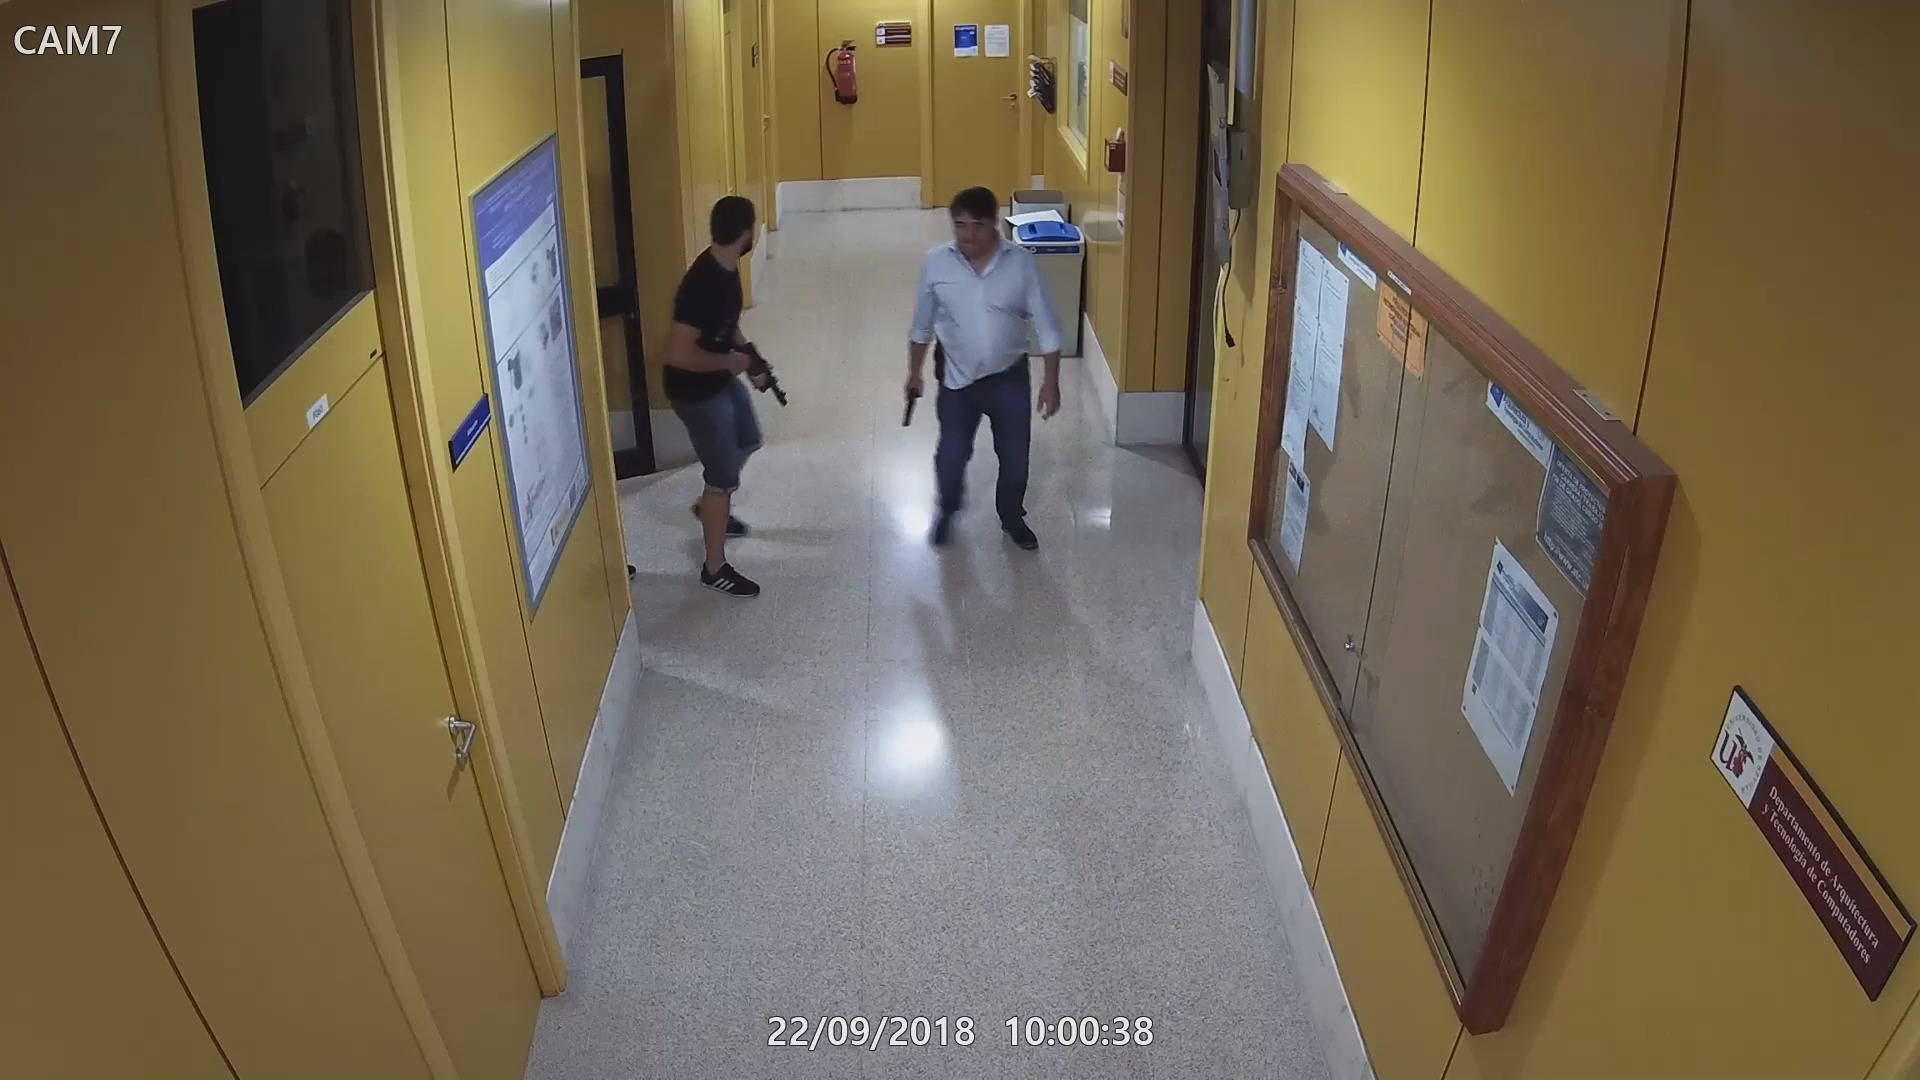Handgun: (902, 386, 920, 429)
Short_rifle: (724, 338, 787, 409)
